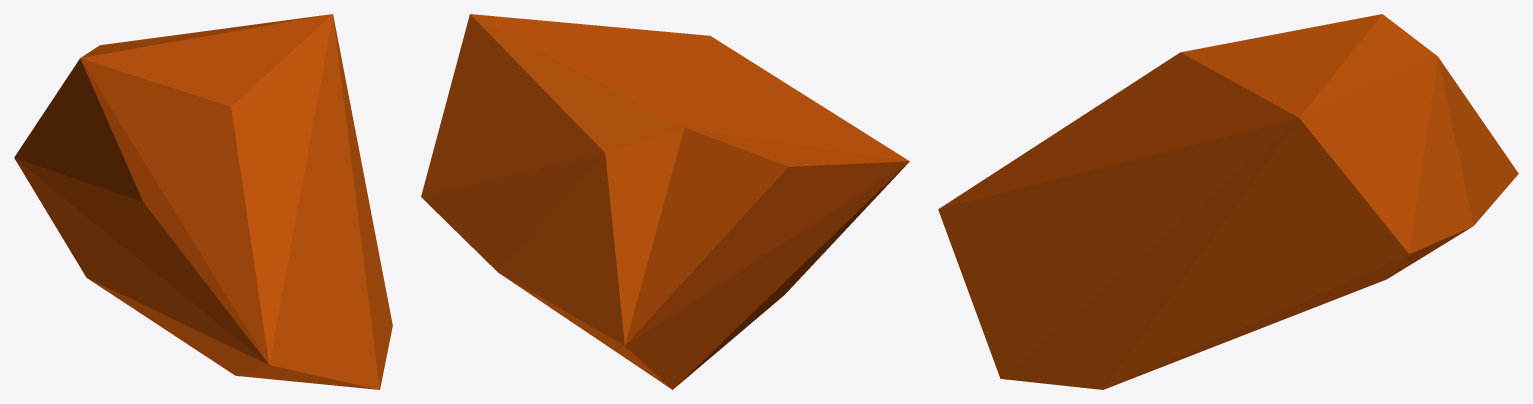
The model's file is ice_a.glb.
3 renders of one model, left to right at view 1: azimuth 30°, elevation 25°; view 2: azimuth 150°, elevation 25°; view 3: azimuth 270°, elevation 25°, orthographic. The views are drawn at different scales.
Parts seen in each view (by area): view 1: ice_a; view 2: ice_a; view 3: ice_a.
Boxes of the visible parts, bbox=[...] form: ice_a: bbox=[14, 14, 392, 389]; ice_a: bbox=[421, 14, 909, 389]; ice_a: bbox=[938, 14, 1518, 389].
Bounding box in the file's own units: 1.25 × 1.37 × 2.35.
